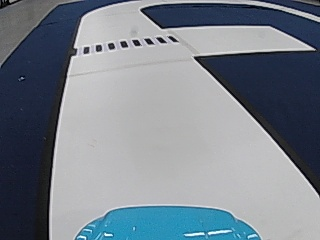CrossWalk: (77, 35, 180, 54)
